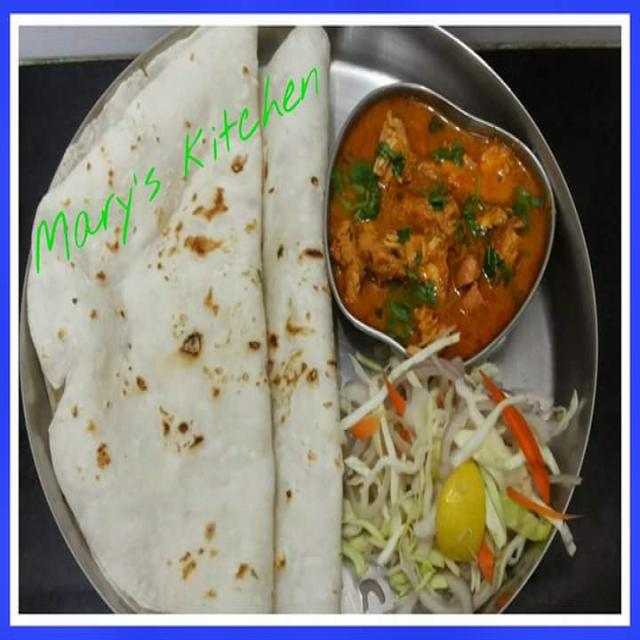RICE BHAKRI: (26, 24, 275, 615), (257, 14, 339, 619)
